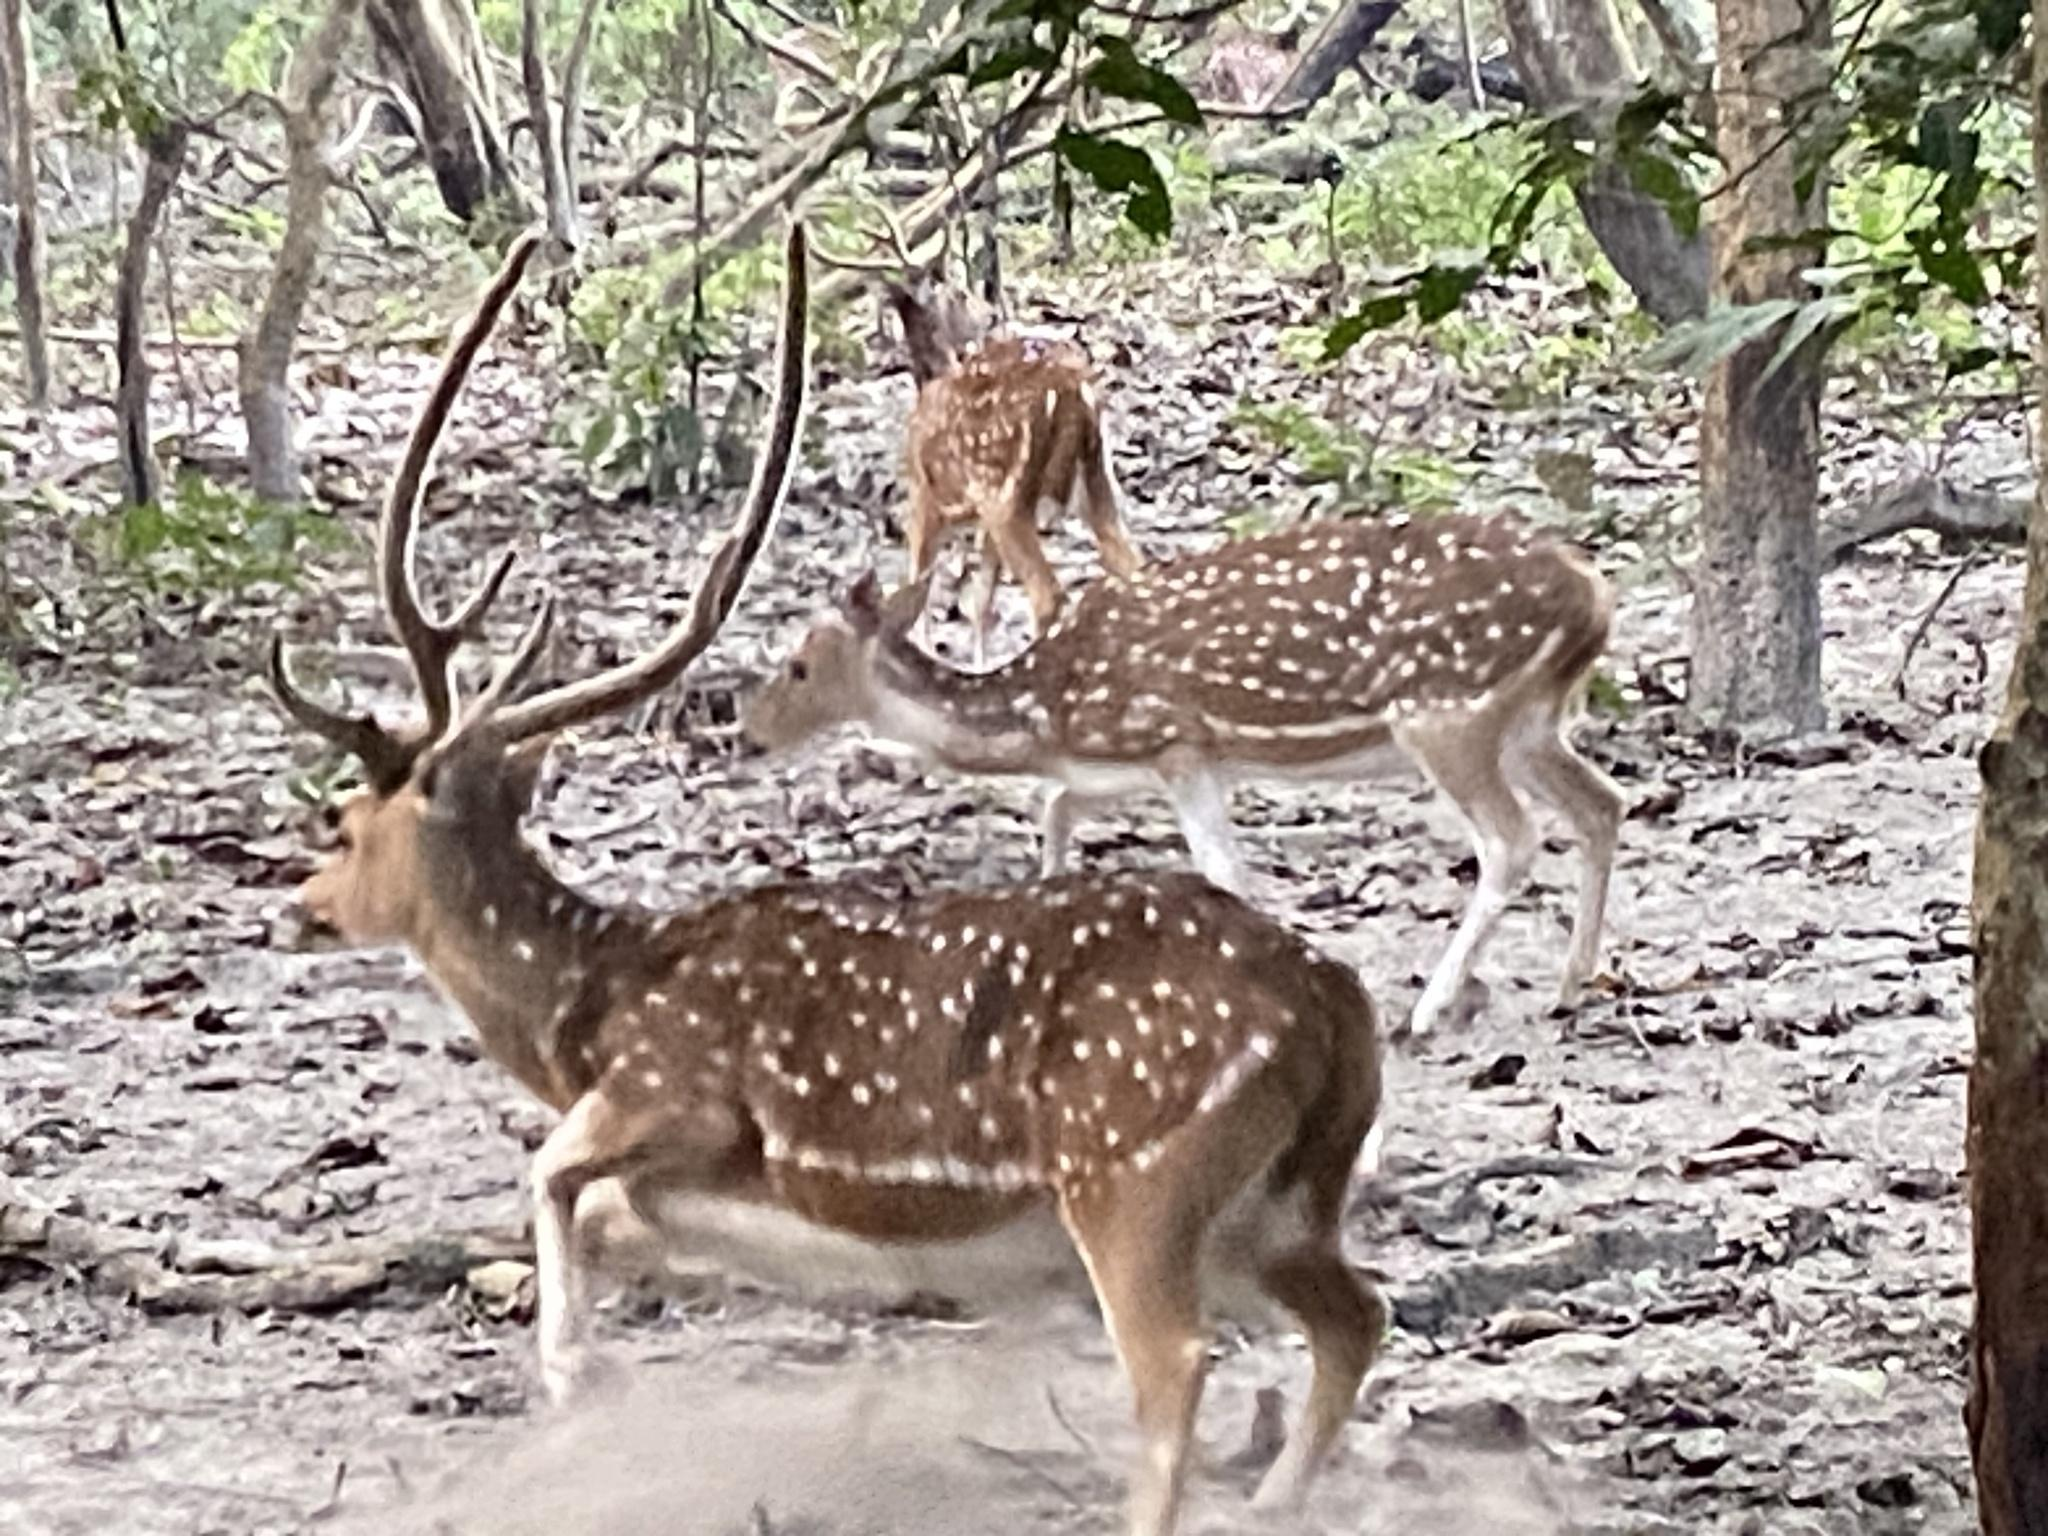Deer: (269, 236, 1385, 1534), (742, 513, 1625, 1033), (893, 284, 1142, 658)
